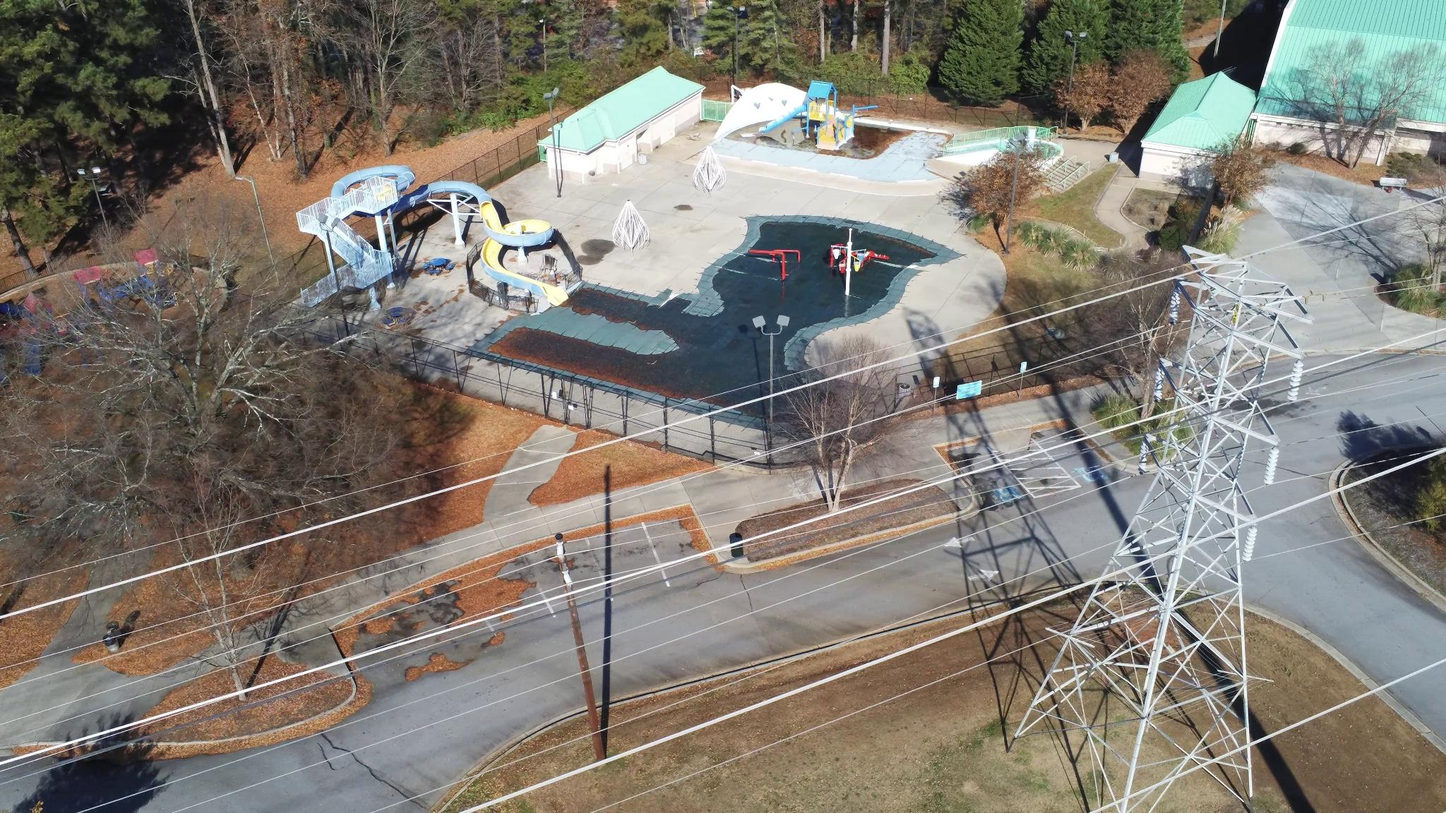tower: (1015, 244, 1316, 813)
